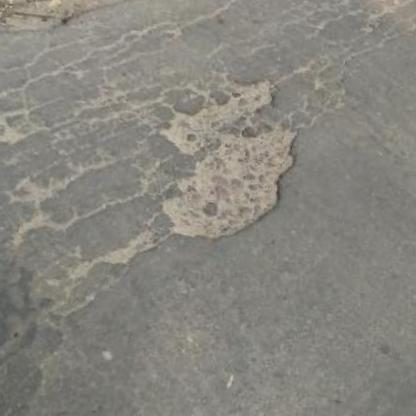pothole: (135, 57, 317, 258)
